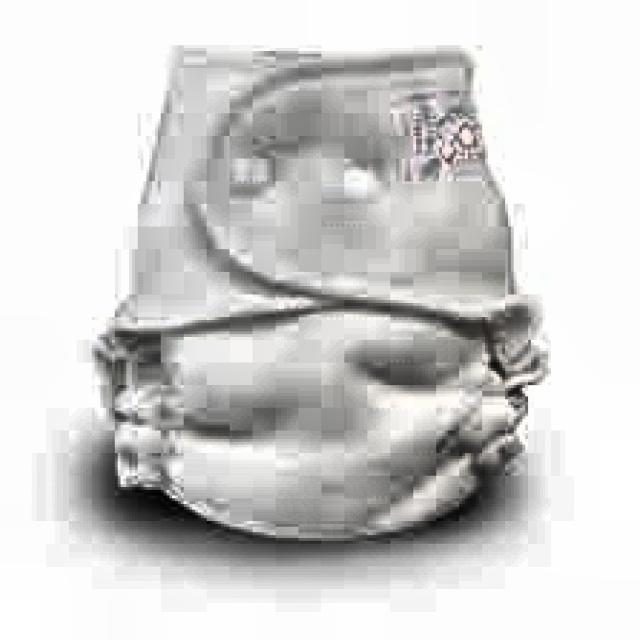trash: (112, 29, 546, 546)
